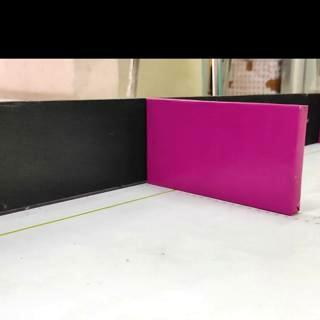xparking: (148, 108, 298, 205)
